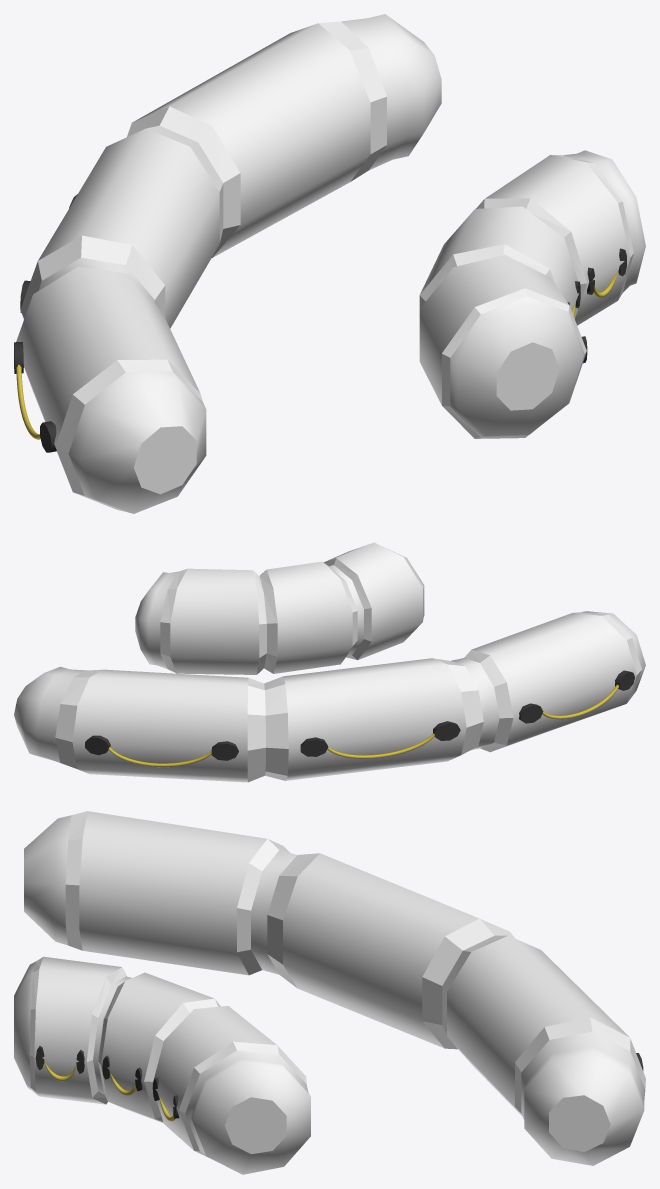
Rendered from Inflatable - Curve piece.fbx.
3 views of the same model, one above another, from view 1: azimuth 30°, elevation 25°; view 2: azimuth 150°, elevation 25°; view 3: azimuth 270°, elevation 25° (orthographic). The views are drawn at different scales.
Parts seen in each view (by area): view 1: Inflatable - Curve piece; view 2: Inflatable - Curve piece; view 3: Inflatable - Curve piece.
Part boxes in pixels (x1,y1,x2,y2): Inflatable - Curve piece: (14,14,645,513); Inflatable - Curve piece: (14,542,645,782); Inflatable - Curve piece: (14,811,645,1174).
Size of the model in its own units: 80.99 by 17.52 by 78.59.
